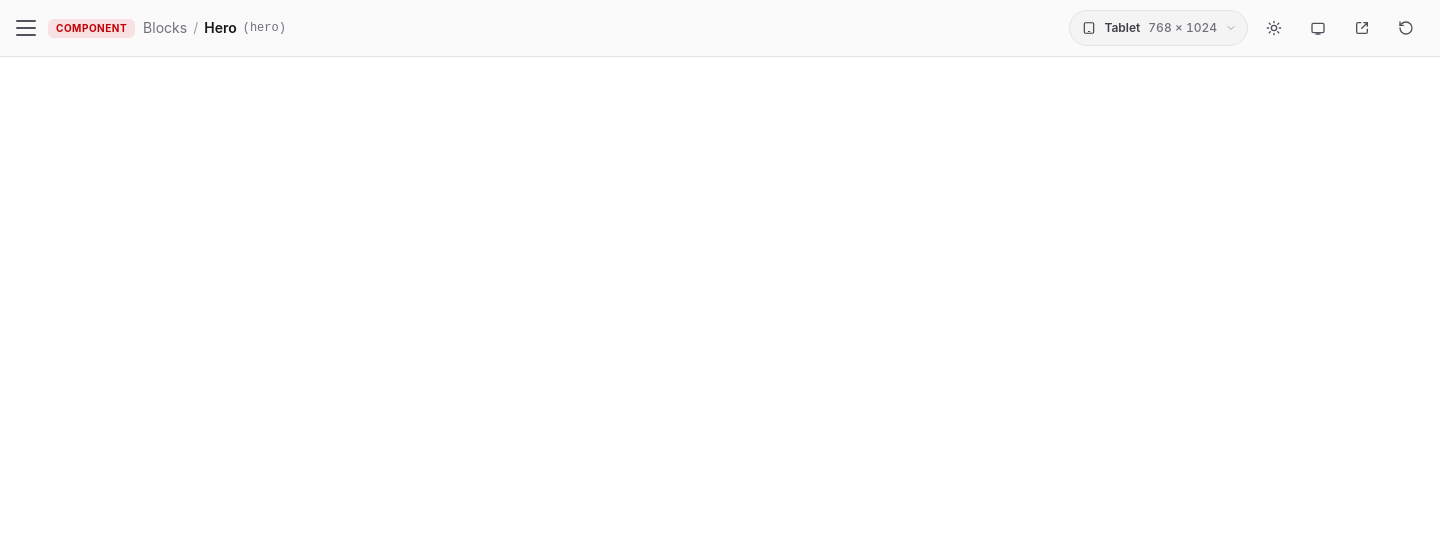
Test case: ViewportToolbar — width checklist › keeps the custom field and orientation out of the menu role
Click the button with test id "viewport-trigger": (1159, 28) [1069,10,1248,46]
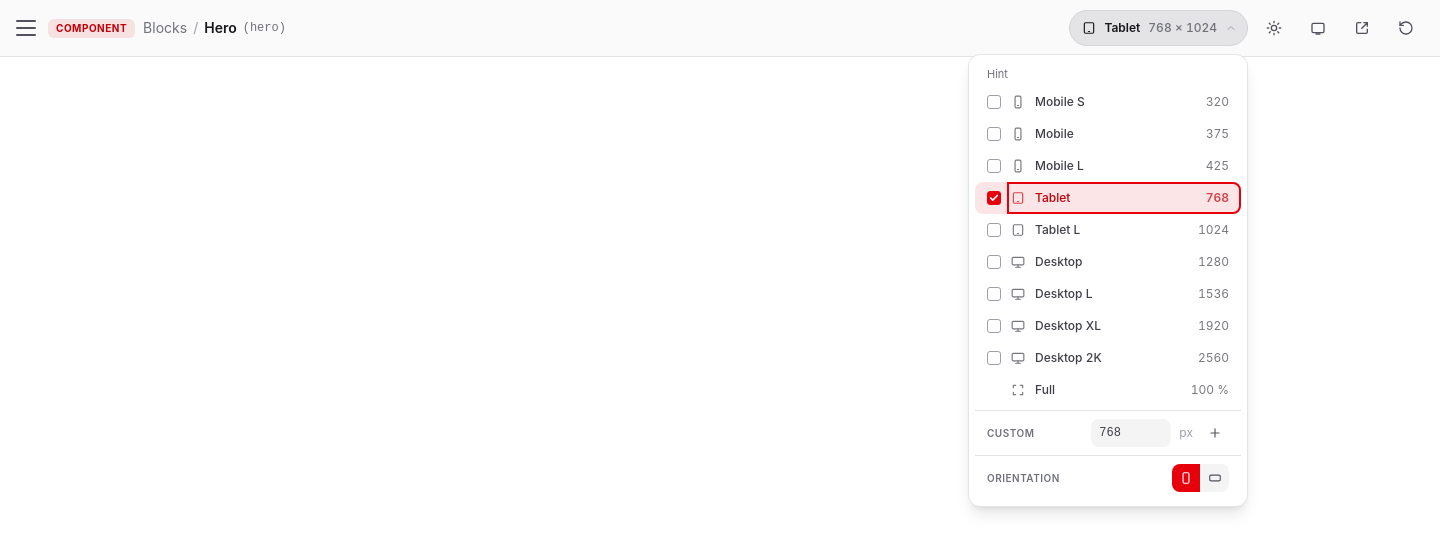
Result: the number field with test id "custom-width-input" is shown at [1091,419,1171,447]
